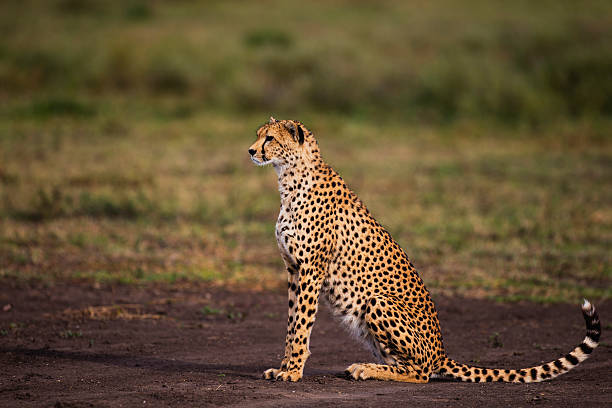cheetah: (234, 108, 325, 184)
